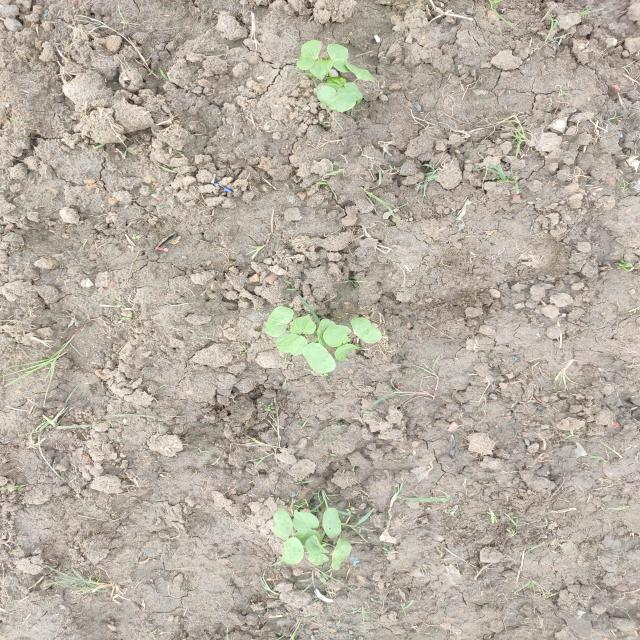seedling_s4: (302, 342, 336, 373), (317, 86, 356, 112), (265, 307, 294, 337), (351, 317, 382, 344), (296, 39, 322, 71), (276, 333, 308, 356), (331, 538, 352, 570), (292, 509, 319, 533), (327, 44, 349, 73), (322, 507, 341, 540), (273, 509, 293, 540), (323, 325, 351, 347), (346, 62, 375, 83), (282, 537, 304, 564), (309, 59, 333, 82), (317, 318, 336, 347), (291, 313, 316, 335), (305, 535, 330, 556), (337, 83, 363, 101), (335, 344, 362, 361), (294, 529, 321, 546), (326, 77, 346, 91), (308, 553, 329, 566)
